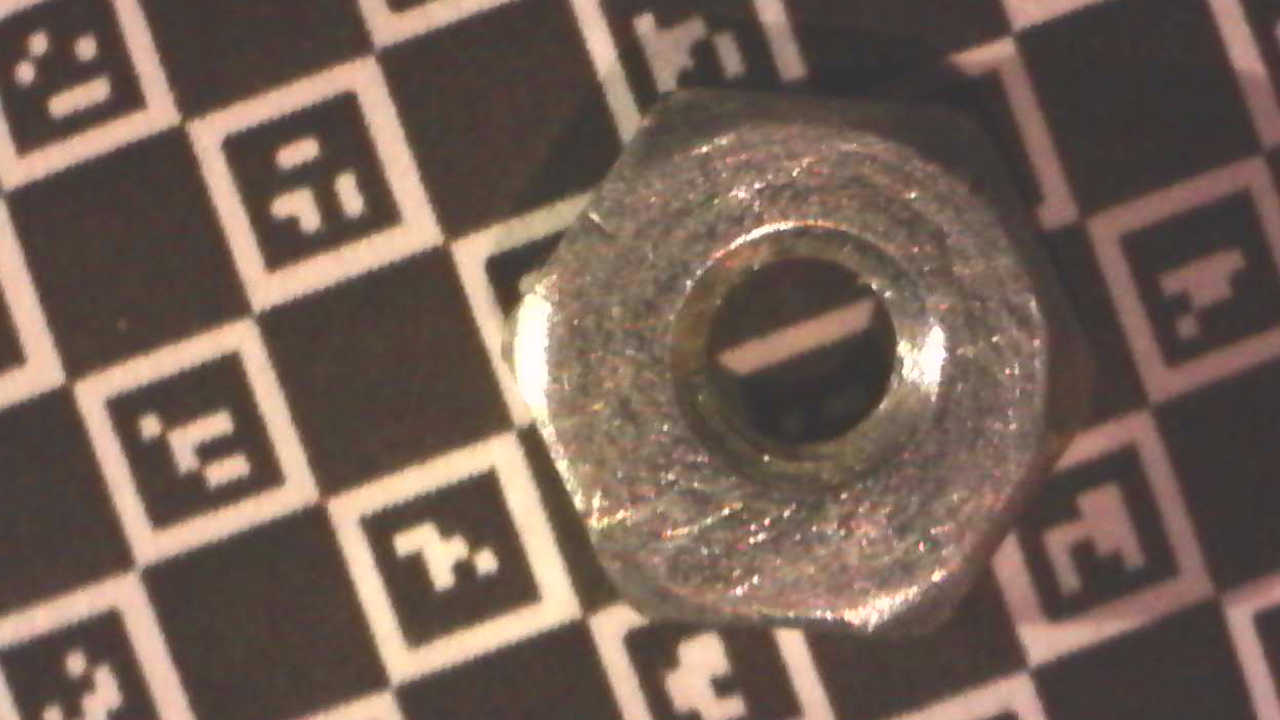Bolt: (500, 90, 1104, 650)
